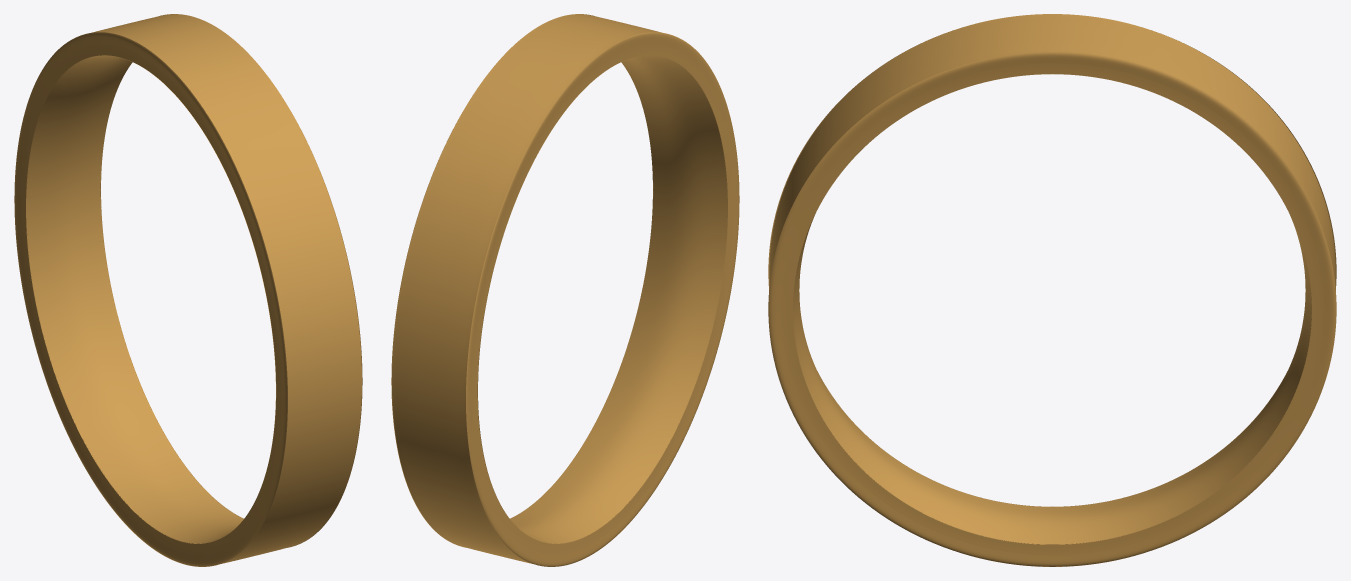
3 views of the same model, side by side, from view 1: azimuth 30°, elevation 25°; view 2: azimuth 150°, elevation 25°; view 3: azimuth 270°, elevation 25° (orthographic). The views are drawn at different scales.
Parts seen in each view (by area): view 1: P13-Outer, P13-Inner, P13-Sides; view 2: P13-Outer, P13-Inner, P13-Sides; view 3: P13-Sides, P13-Outer, P13-Inner.
Part boxes in pixels (<box>): P13-Outer: <box>92,14,361,563</box>; P13-Inner: <box>26,55,276,543</box>; P13-Sides: <box>14,14,362,566</box>; P13-Outer: <box>392,14,661,563</box>; P13-Inner: <box>477,55,727,543</box>; P13-Sides: <box>391,14,739,566</box>; P13-Sides: <box>768,41,1336,566</box>; P13-Outer: <box>769,14,1335,566</box>; P13-Inner: <box>793,51,1311,544</box>.
Size of the model in its own units: 0.00368 by 0.023 by 0.0229.
